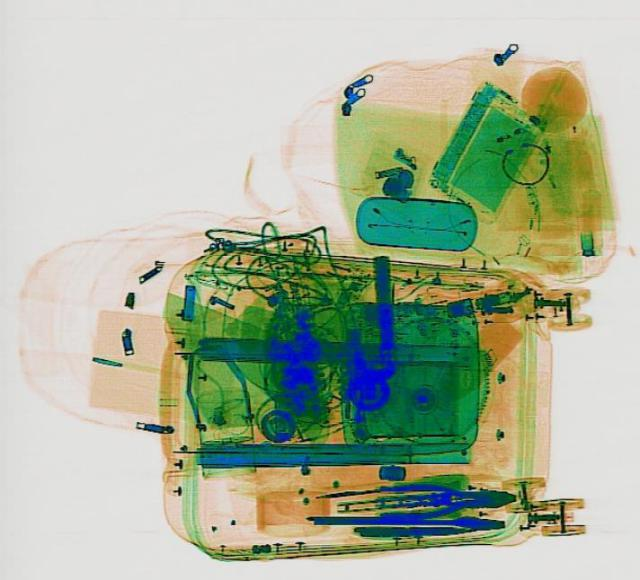Pliers: (374, 478, 516, 519)
